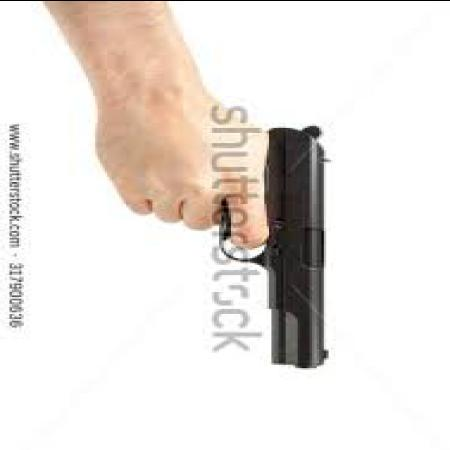Pistol: (205, 115, 331, 369)
